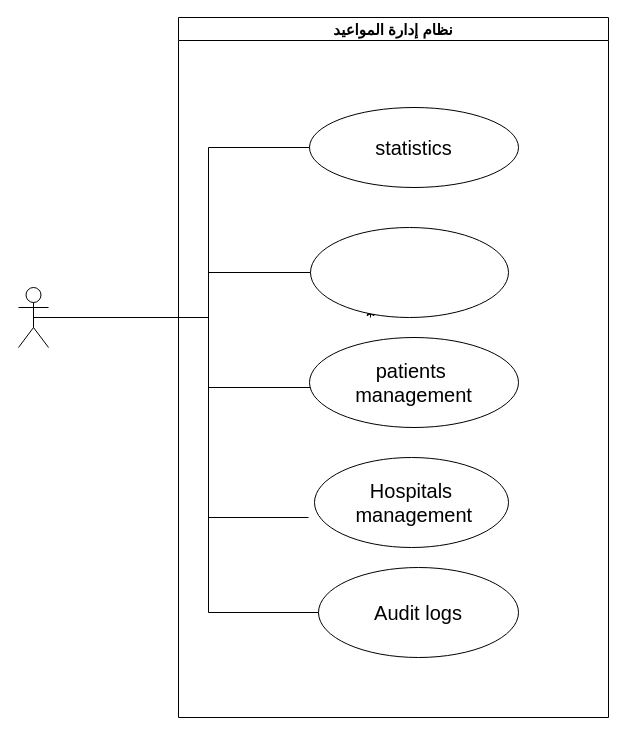
This 626x735 diagram has some shape labels left out. Here are the shapes that lost their labels. From the top down, the centre of each, then its label:
the point at 409,272: Doctors management
the point at 33,317: admin
